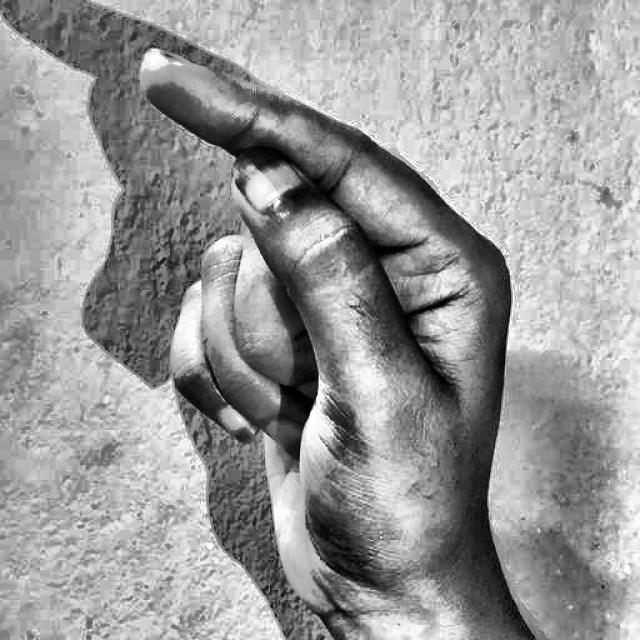Tha: (96, 29, 553, 640)
